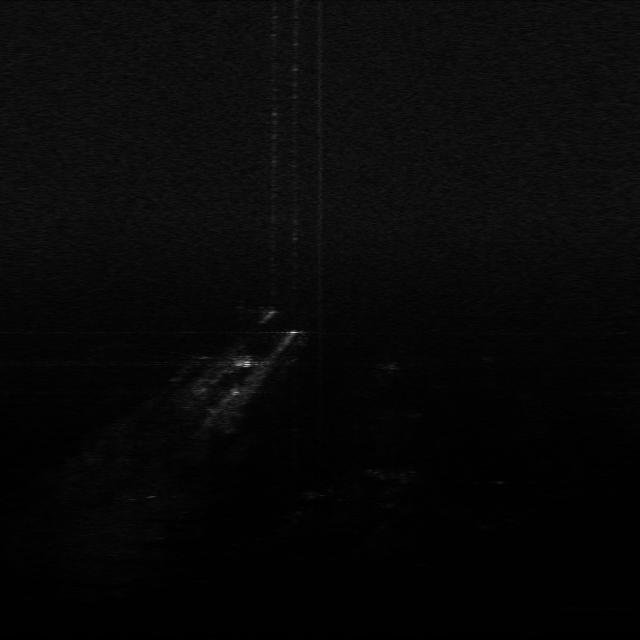rov: (230, 353, 256, 370)
